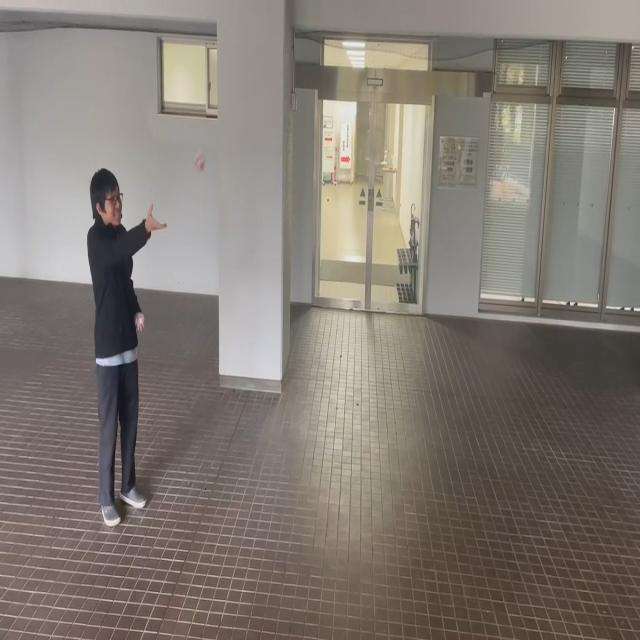paper: (194, 152, 205, 173), (138, 317, 144, 325)
